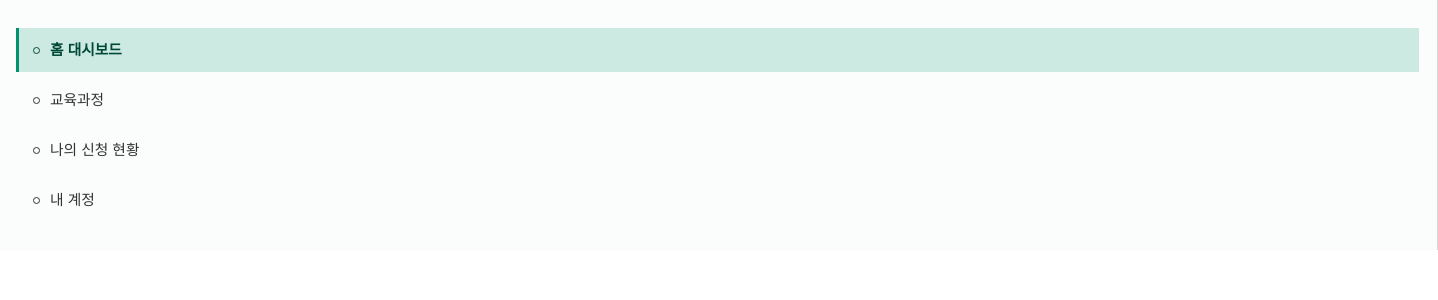
Test case: AppSidebar › shows immediate loading feedback when a menu item is selected
The width and height of the screenshot is (1438, 300).
Click the link "교육과정". click: (69, 100)
box: [33,92,104,108]
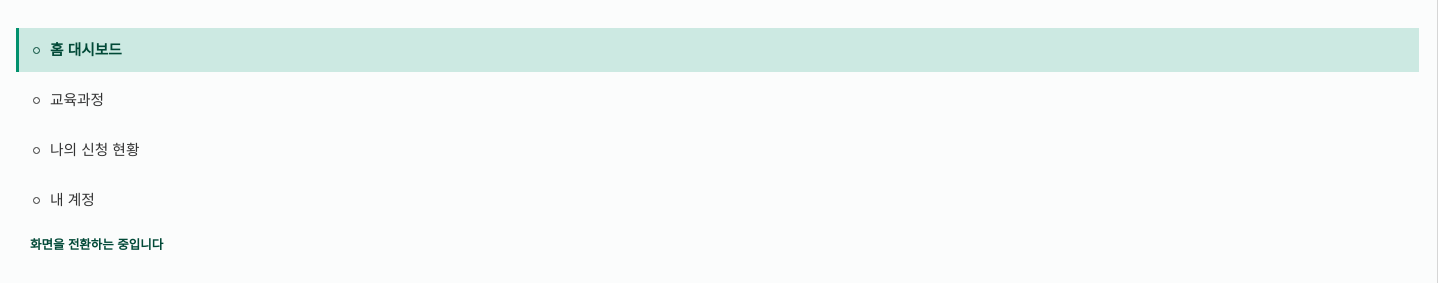
Expected: the message reads "화면을 전환하는 중입니다", [30,238,163,252]
